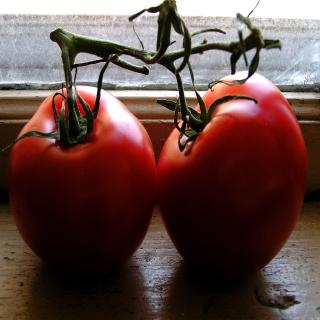tomato: (156, 66, 306, 277), (11, 75, 158, 272)
